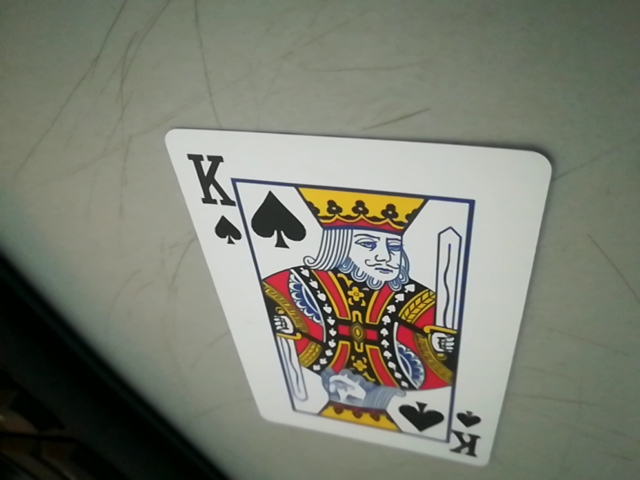ht k: (294, 395, 482, 456), (181, 141, 250, 250)
